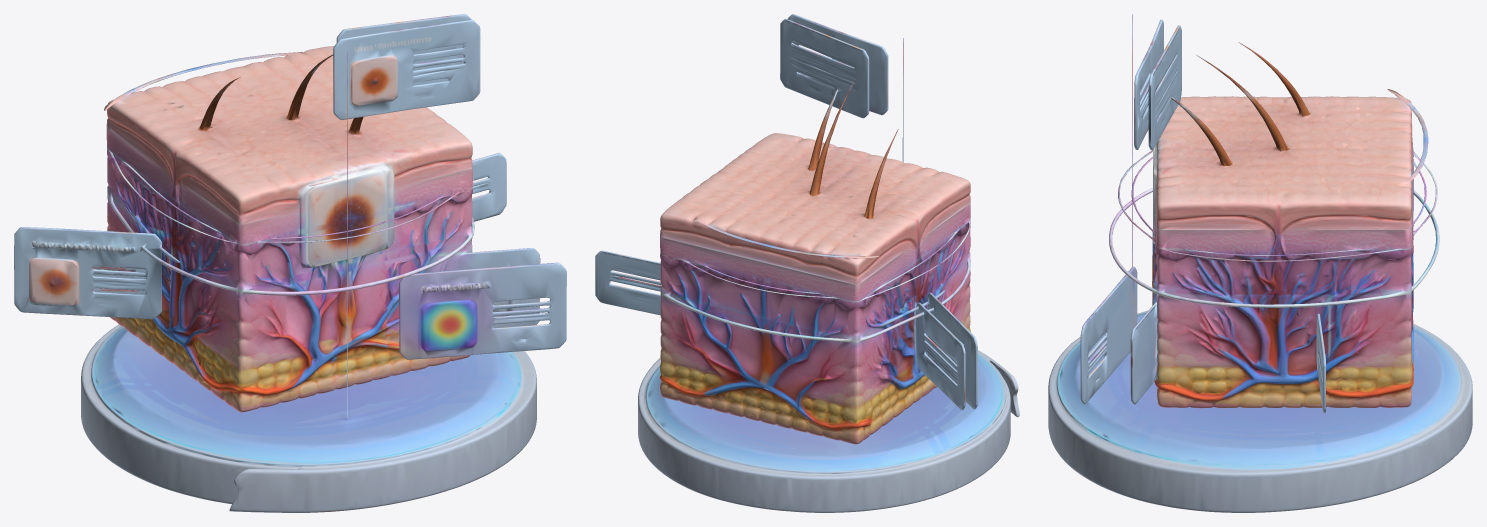
3 renders of one model, left to right at view 1: azimuth 30°, elevation 25°; view 2: azimuth 150°, elevation 25°; view 3: azimuth 270°, elevation 25°, orthographic. The views are drawn at different scales.
Parts seen in each view (by area): view 1: node_0; view 2: node_0; view 3: node_0.
Part boxes in pixels (bbox=[...]): node_0: bbox=[14, 14, 566, 512]; node_0: bbox=[595, 14, 1019, 512]; node_0: bbox=[1048, 14, 1472, 512].
Size of the model in its own units: 0.9862 by 0.8451 by 0.8154.
1 material, 1 textured.
